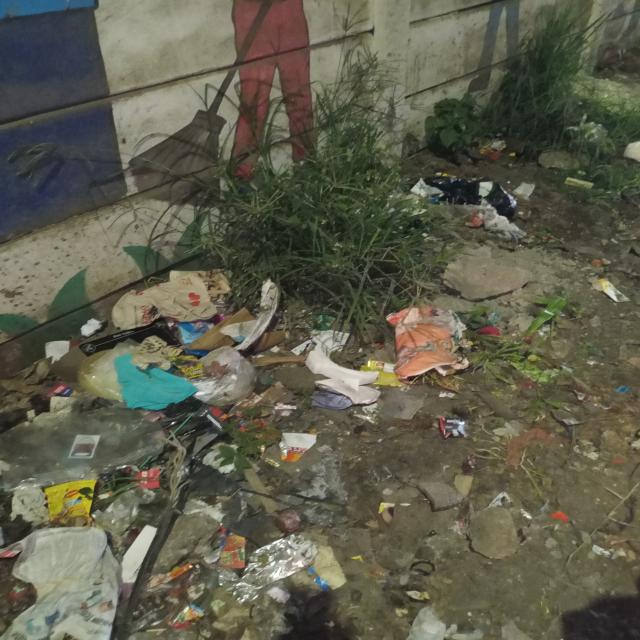garbage: (0, 242, 561, 635)
